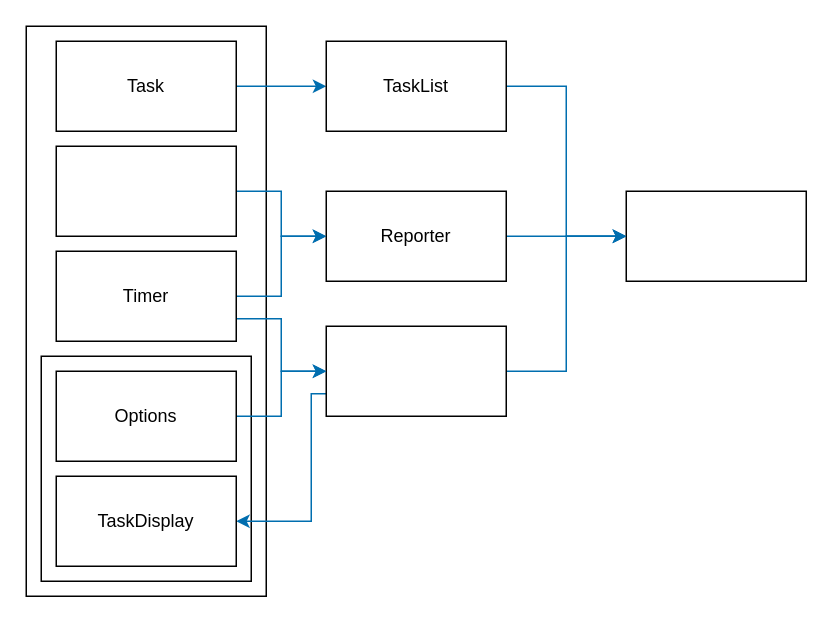
Image size: 833x623. Some labels were removed from this diagram. The shapes that lost their labels are listed below. From the top down, each one's box as (x1, y1, x2, y2) in pixels, then its label:
(55, 145, 236, 236): TaskResult
(625, 190, 806, 281): Main
(325, 325, 506, 416): UserInterface
